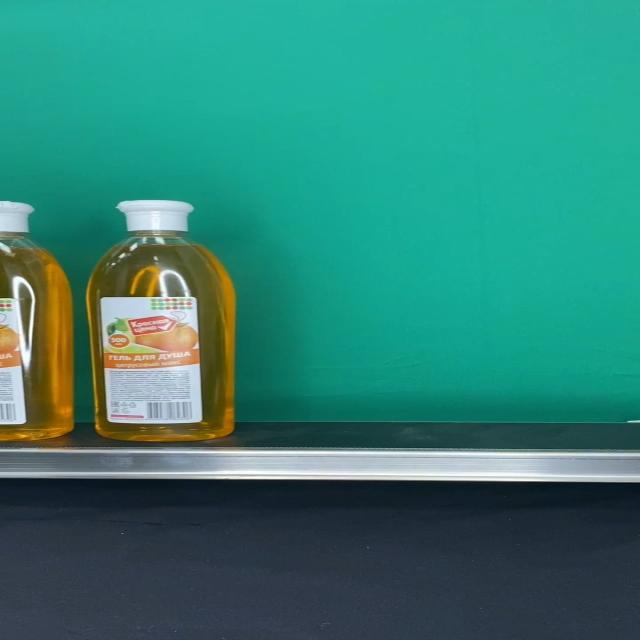Bottle: (87, 200, 237, 440)
Cap: (114, 200, 194, 232)
